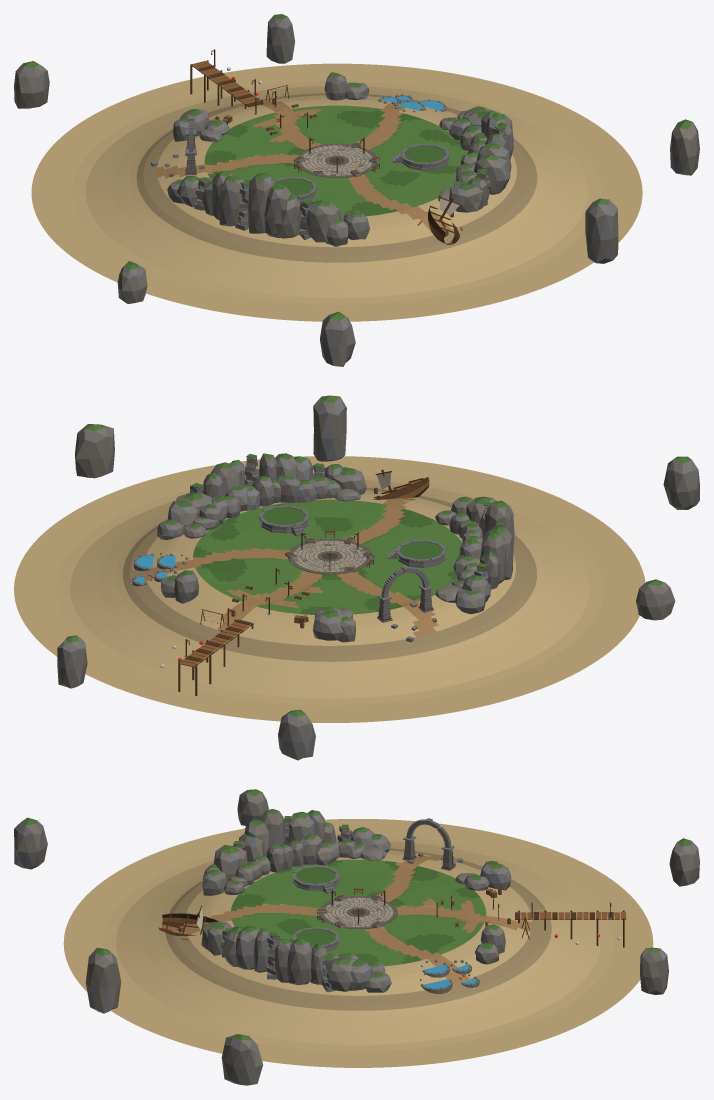
File: FortressIsland.obj
3 renders of one model, top to bottom at view 1: azimuth 30°, elevation 25°; view 2: azimuth 150°, elevation 25°; view 3: azimuth 270°, elevation 25°, orthographic. The views are drawn at different scales.
Parts seen in each view (by area): view 1: FortressIsland; view 2: FortressIsland; view 3: FortressIsland.
Part boxes in pixels (<box>): FortressIsland: <box>14,14,699,366</box>; FortressIsland: <box>14,395,699,760</box>; FortressIsland: <box>14,789,699,1085</box>.
Size of the model in its own units: 97.96 by 13.49 by 105.
